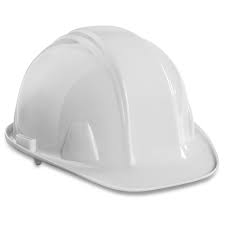Casco de seguridad: (5, 26, 217, 191)
